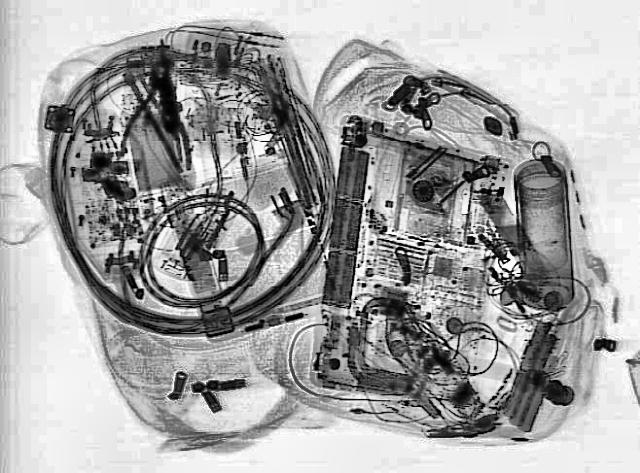Pliers: (112, 53, 206, 168)
